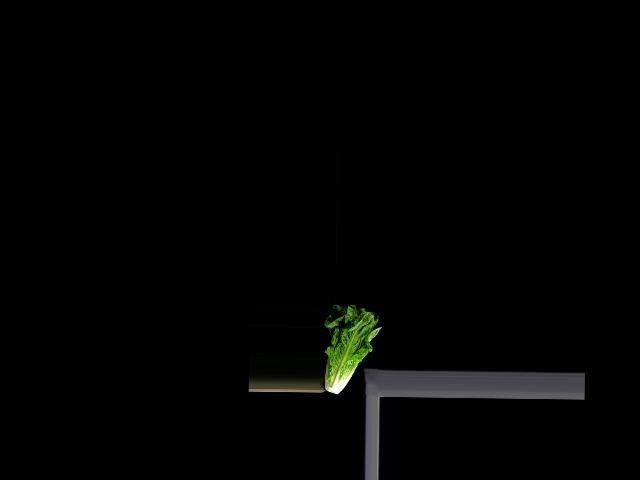lettuce: (322, 302, 381, 395)
